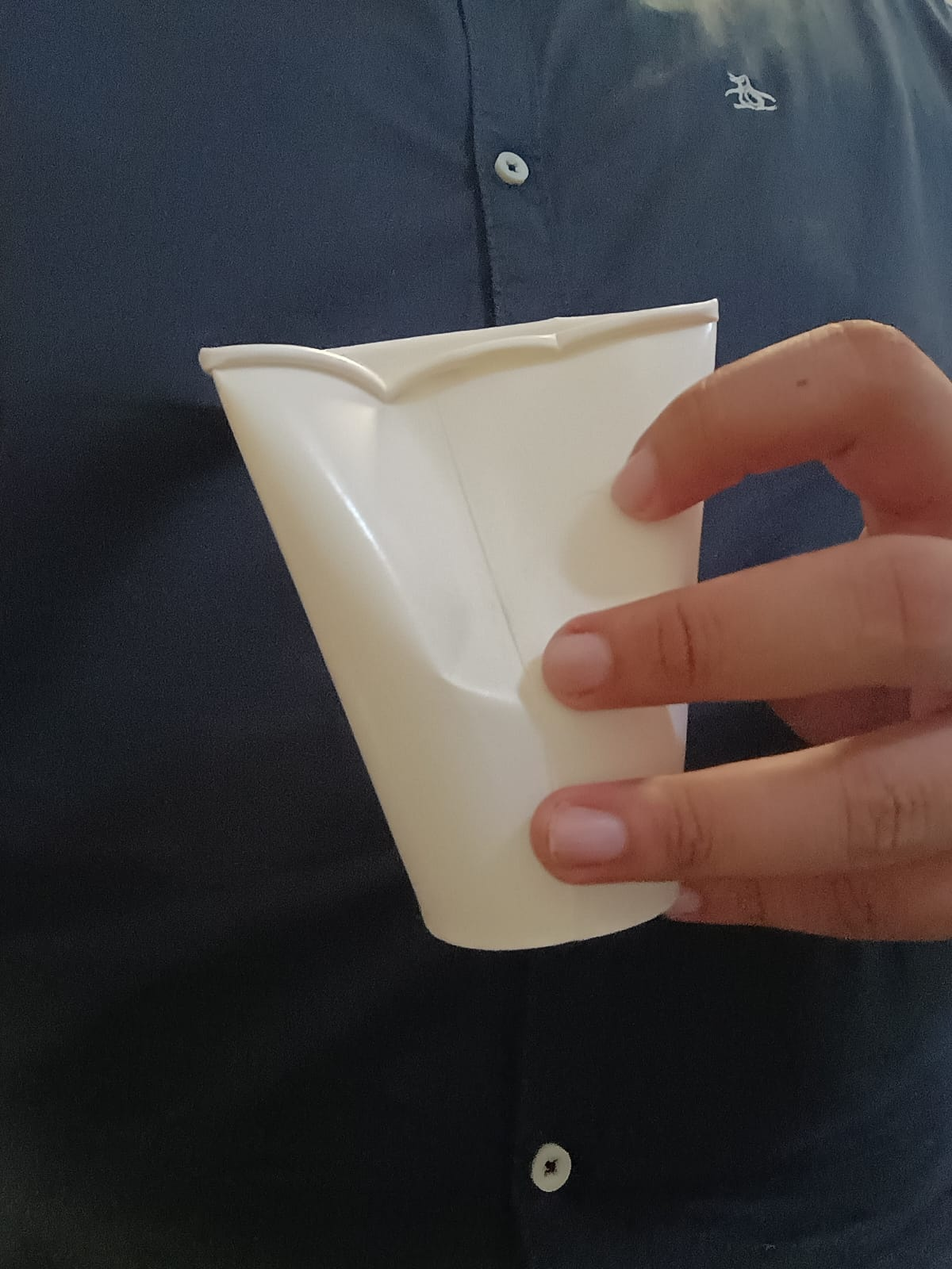Carton: (198, 297, 747, 950)
